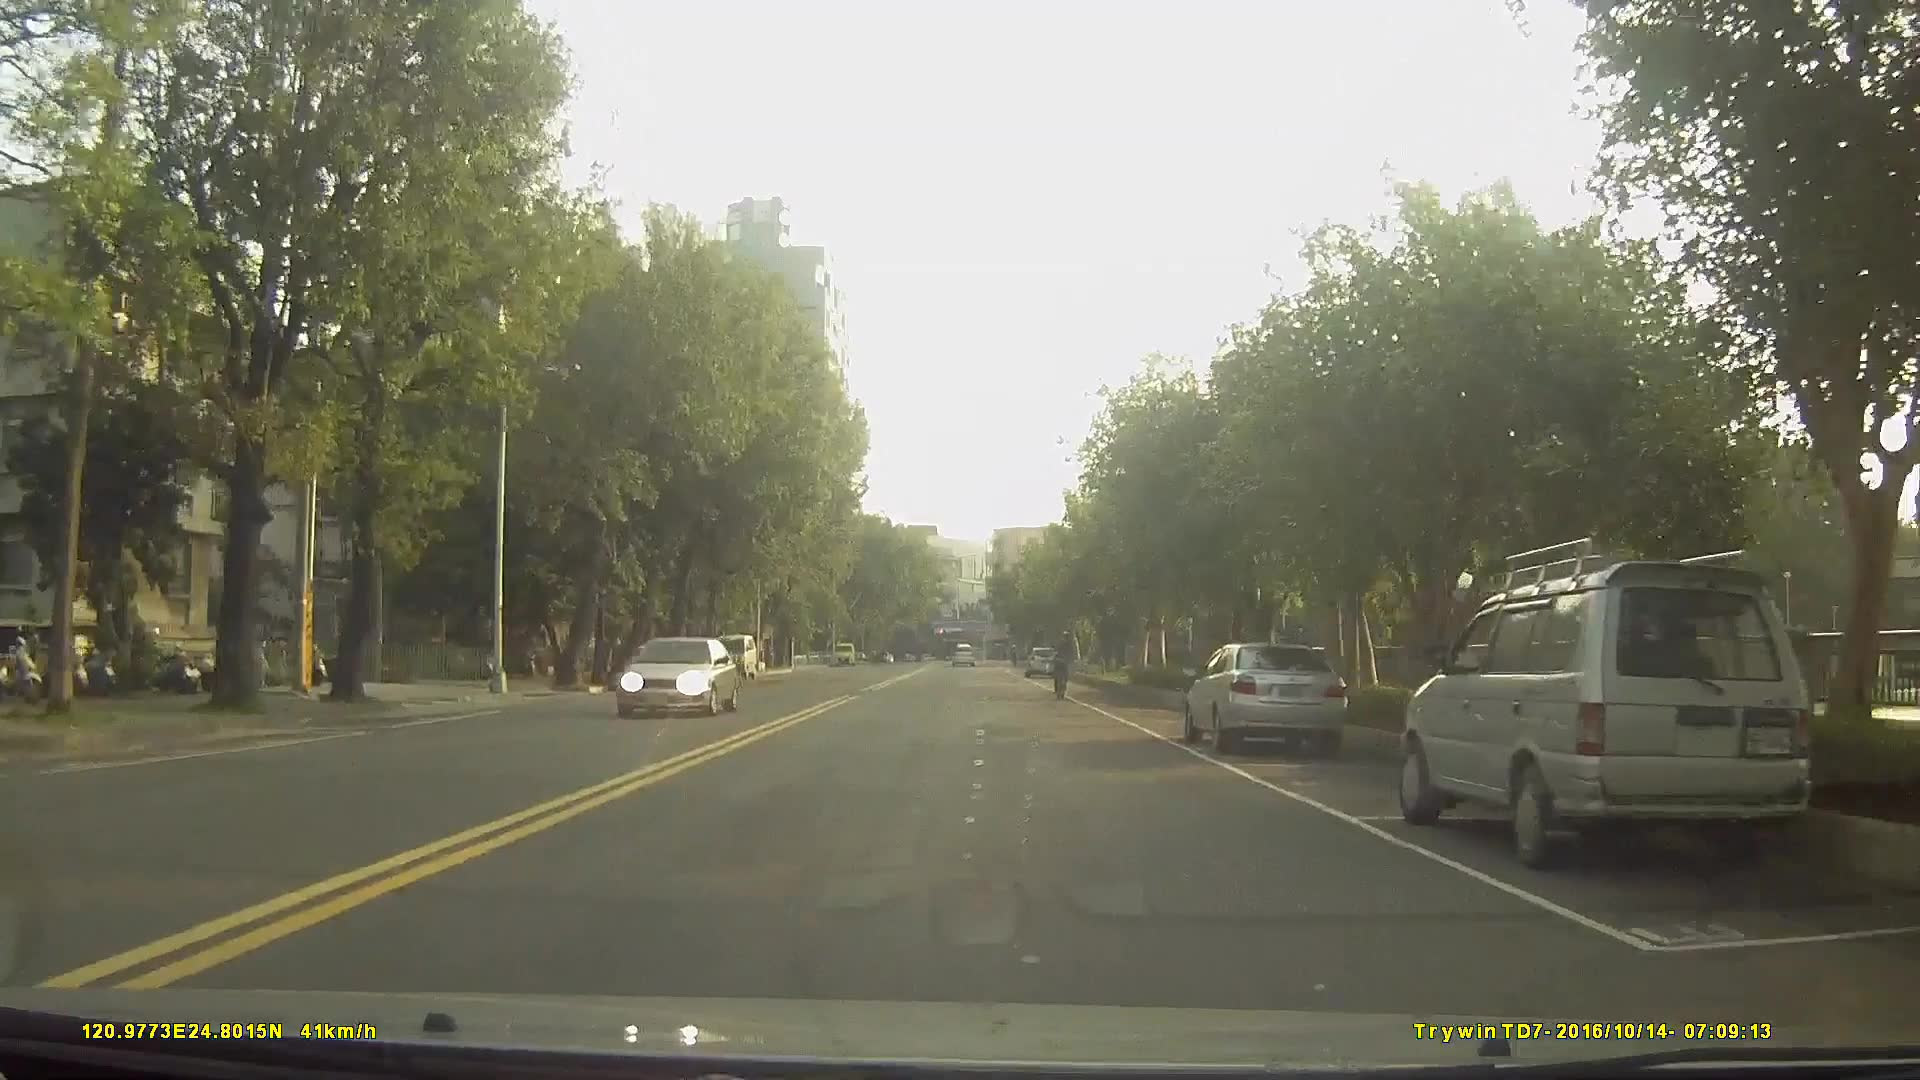rider: (1053, 621, 1078, 702)
vehicle: (1396, 555, 1816, 870), (1183, 635, 1348, 749), (613, 635, 740, 718), (624, 637, 689, 686), (707, 630, 757, 678), (1023, 641, 1059, 677), (948, 637, 976, 666)
